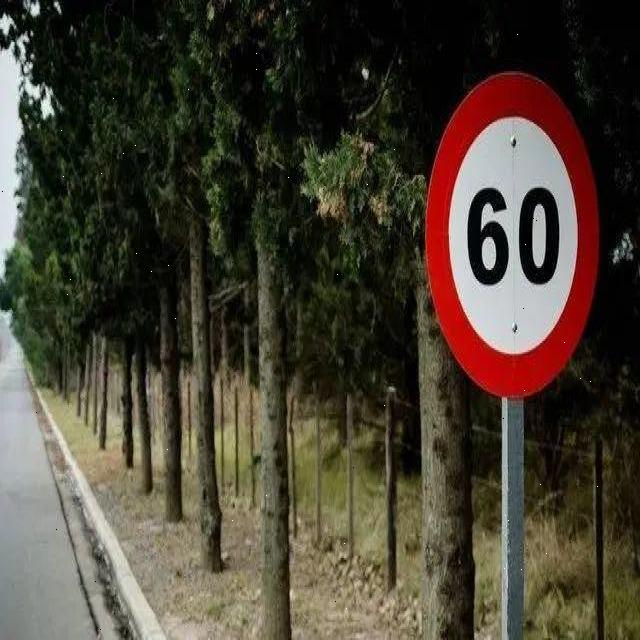speed limit 60: (426, 71, 601, 399)
